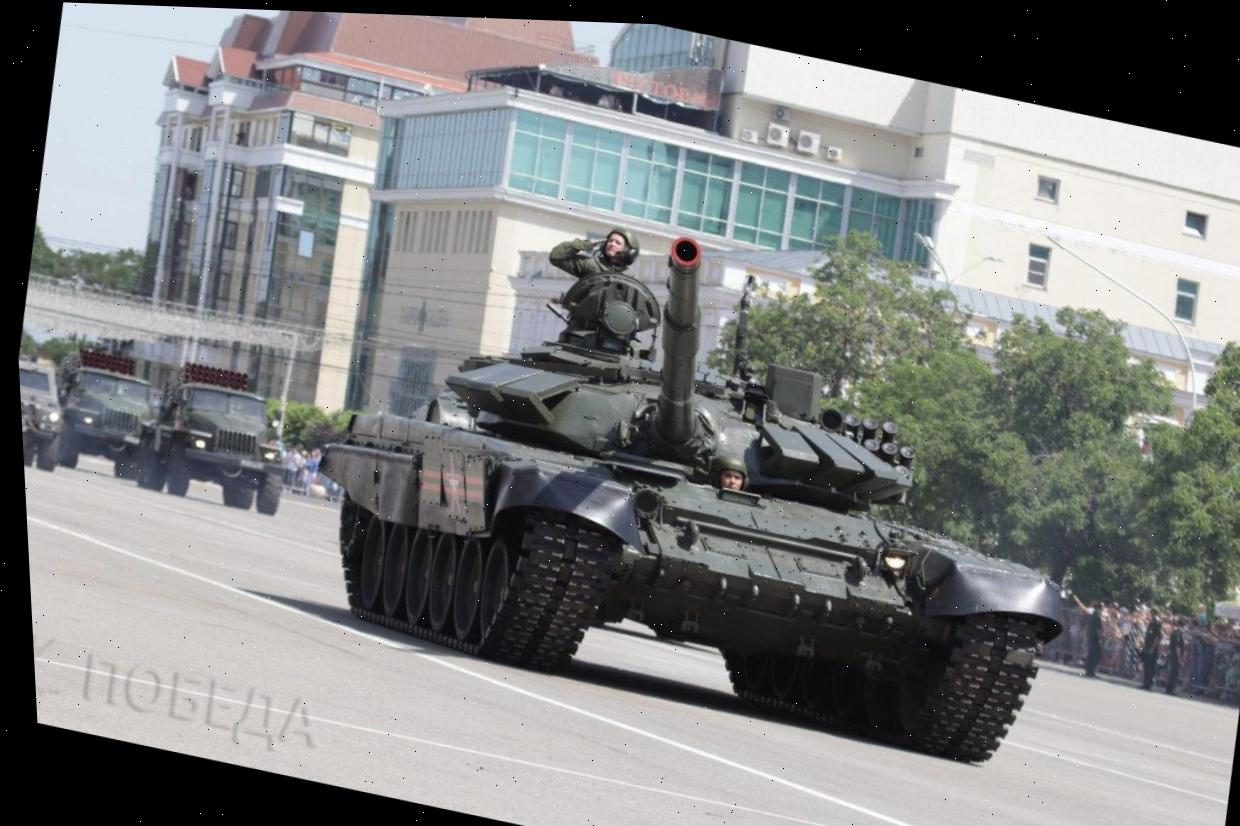armored_car: (18, 356, 77, 476)
person: (1130, 604, 1173, 696), (1156, 614, 1197, 704), (1074, 598, 1115, 687)
rszo: (125, 350, 305, 520), (39, 342, 165, 486)
tank: (275, 192, 1125, 787)
